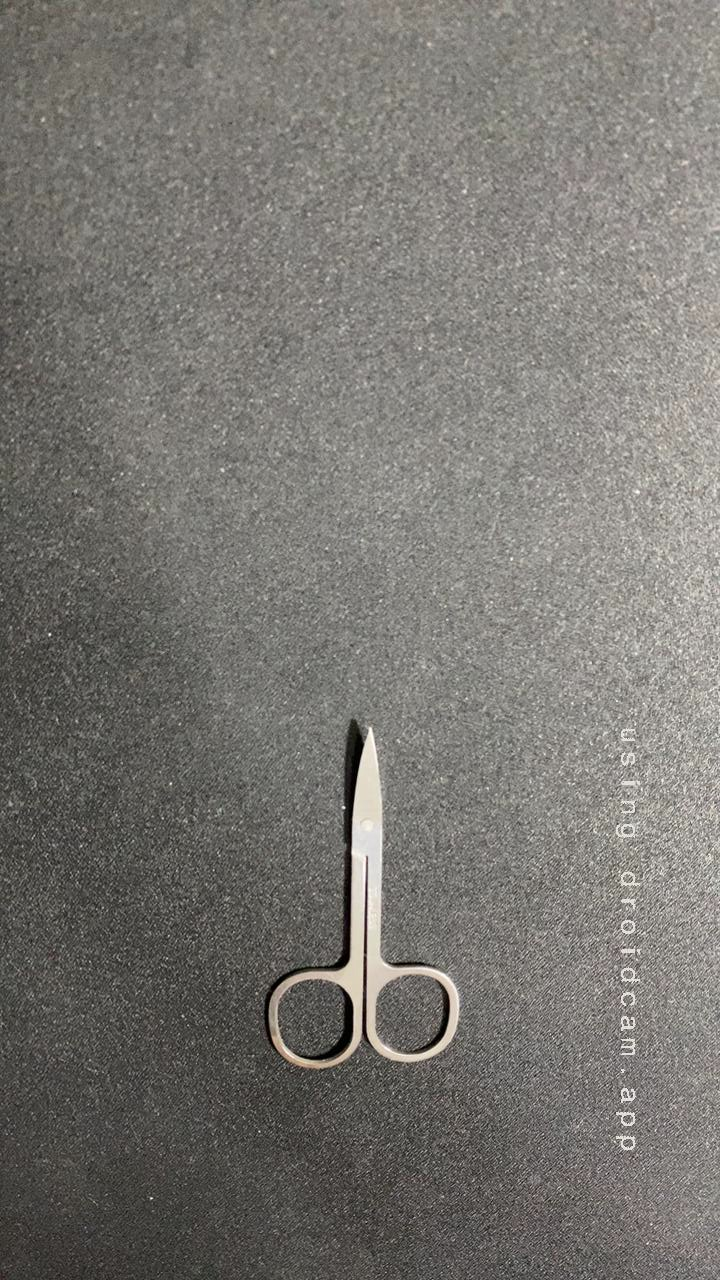scissor: (235, 710, 487, 1073)
